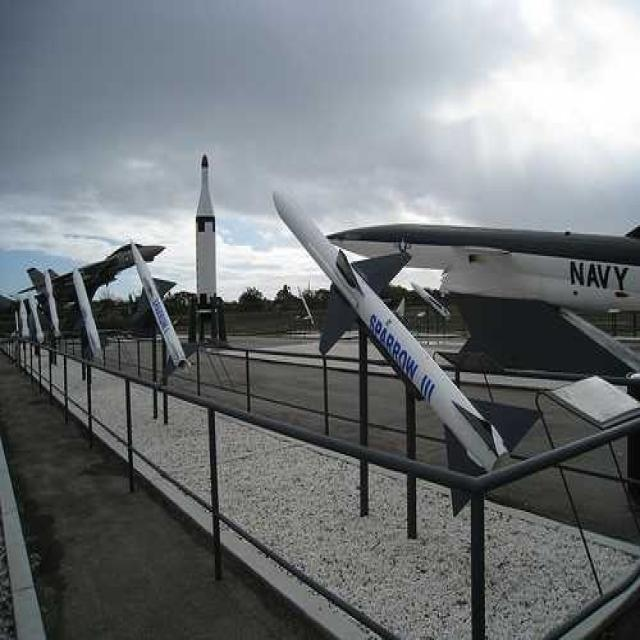missile: (272, 178, 542, 518), (128, 233, 194, 385), (69, 259, 108, 357)
